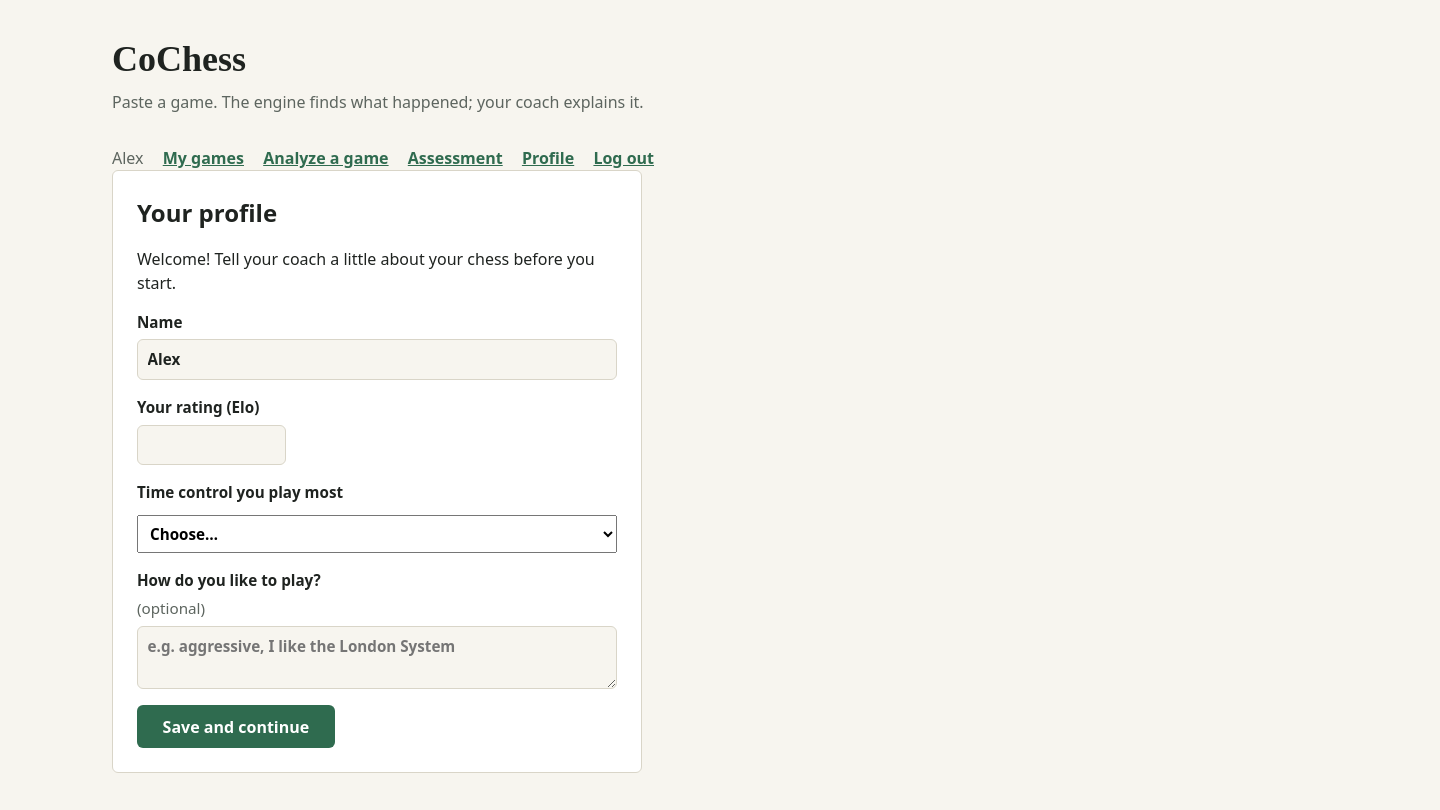
Test: a new player fills in the profile first, then sees the assessment (which they can skip)
In the number field labelled "Your rating (Elo)": coordinates (212, 445) top-left (137, 425), bottom-right (286, 465), type "1450"
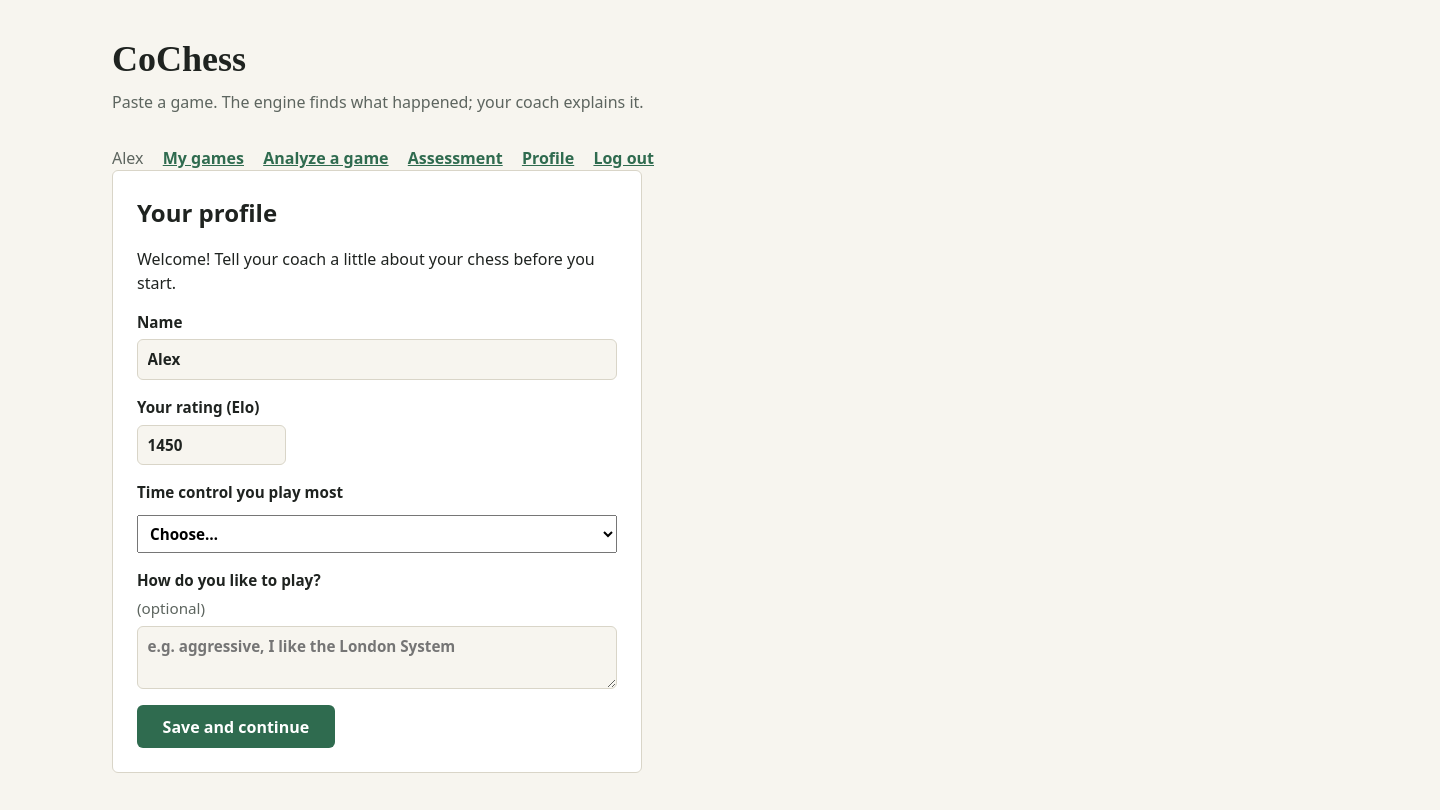
Select "Blitz (3–8 minutes)" in the dropdown labelled "Time control you play most": coordinates (377, 534) top-left (137, 514), bottom-right (617, 553)
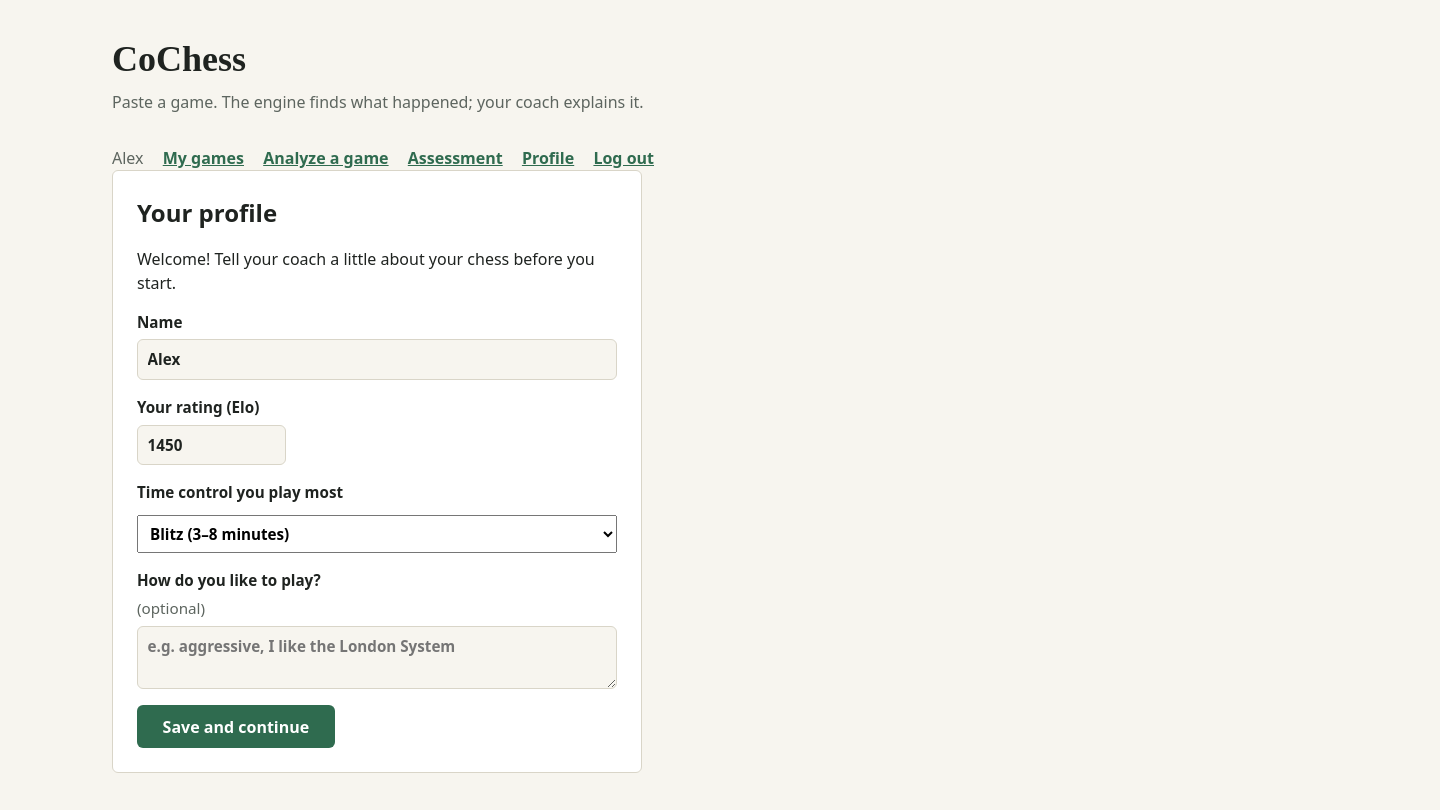
Click the button "Save and continue": coordinates (236, 727) top-left (137, 705), bottom-right (335, 748)
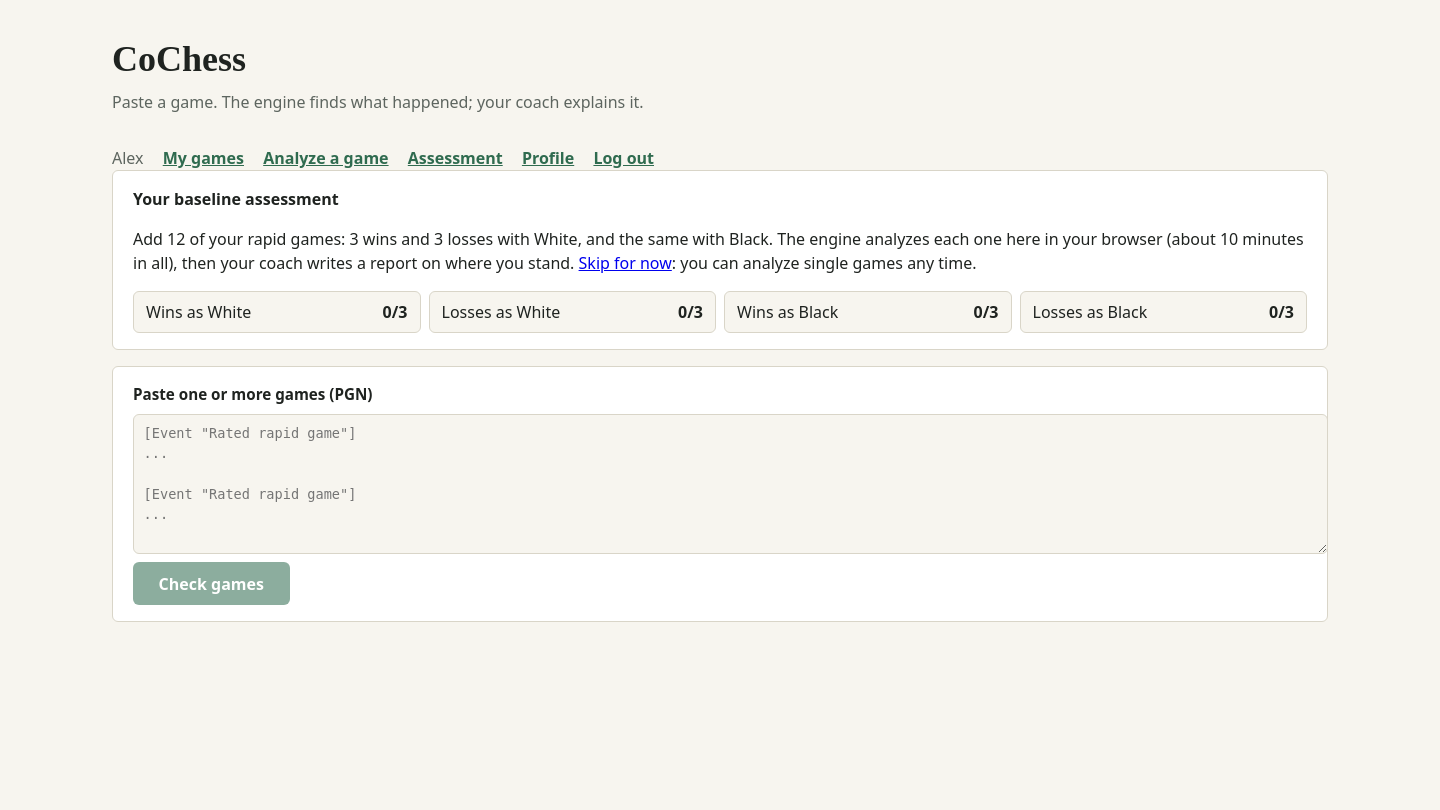
Check: the heading "Your baseline assessment" is shown, box top-left (133, 188), bottom-right (339, 210)
Click the link "Skip for now": coordinates (625, 263) top-left (579, 252), bottom-right (672, 274)
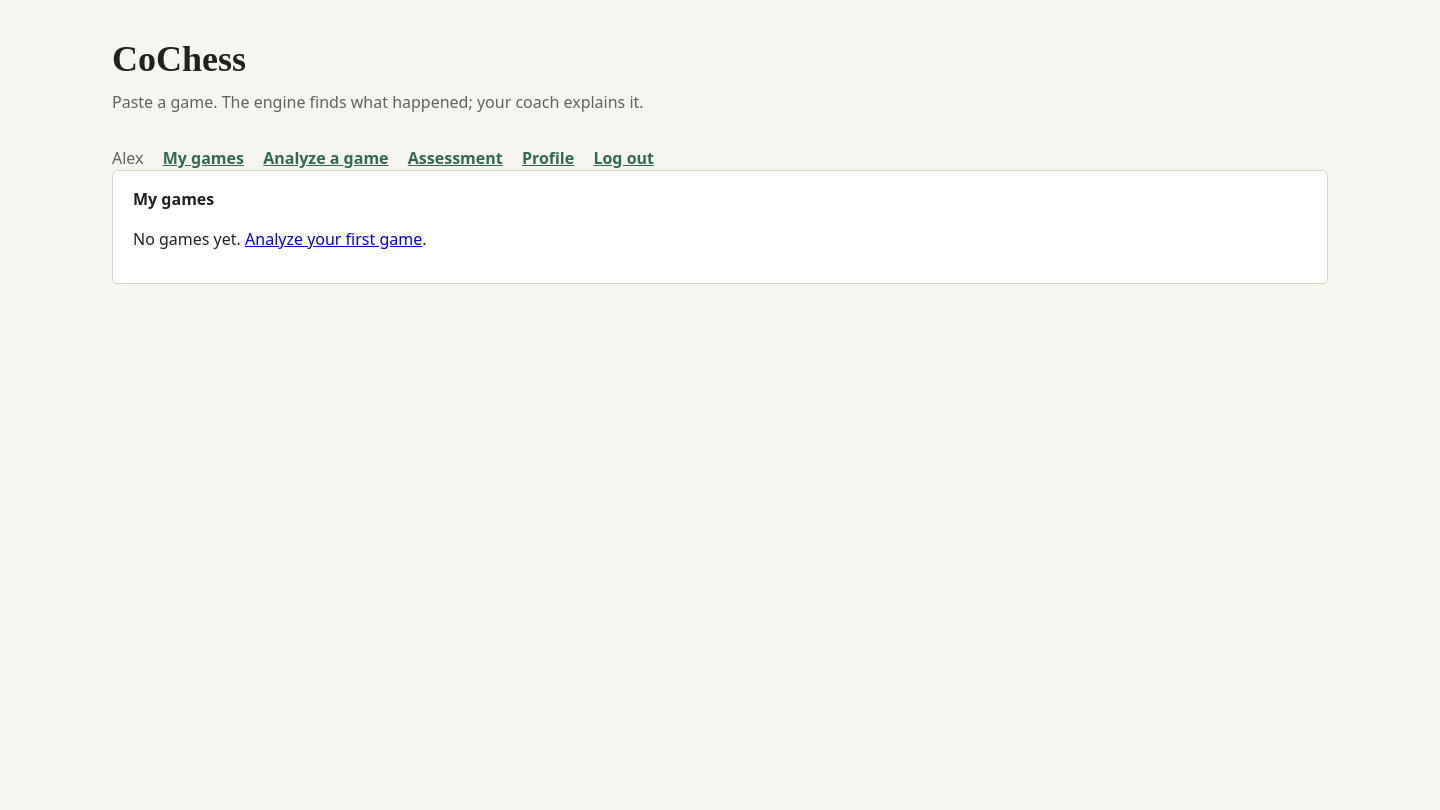
Check: the text "No games yet. Analyze your first game ." is shown, box top-left (133, 228), bottom-right (427, 250)
